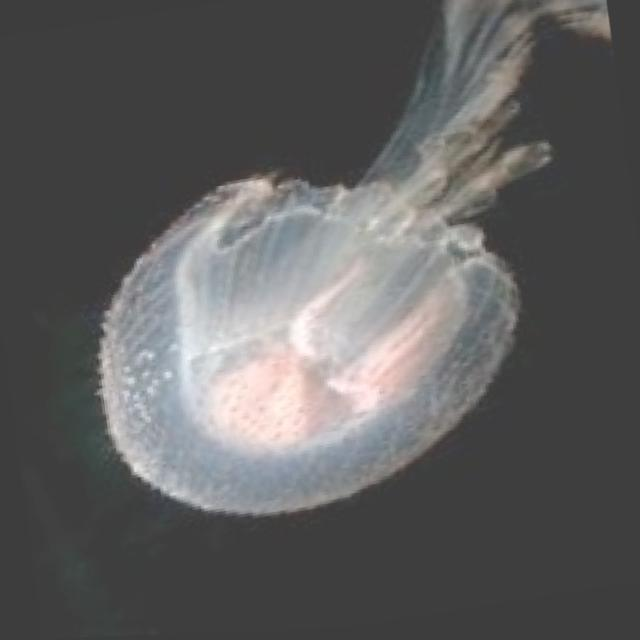Box-jellyfish: (45, 0, 640, 549)
